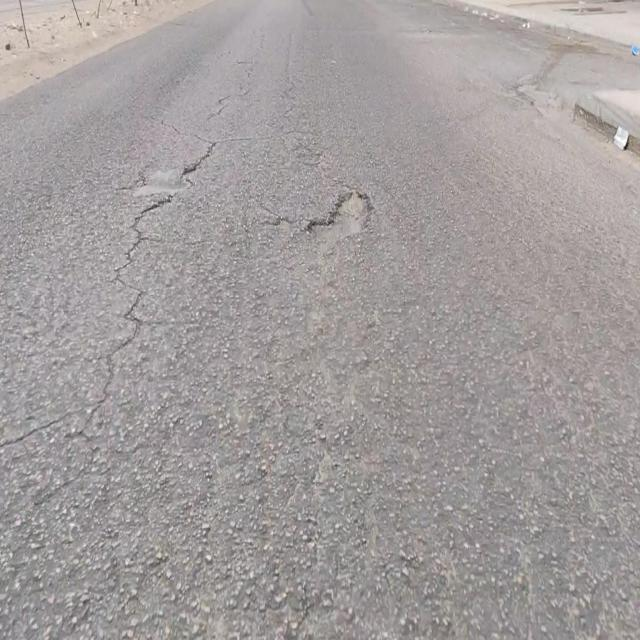Potholes: (310, 191, 374, 237)
